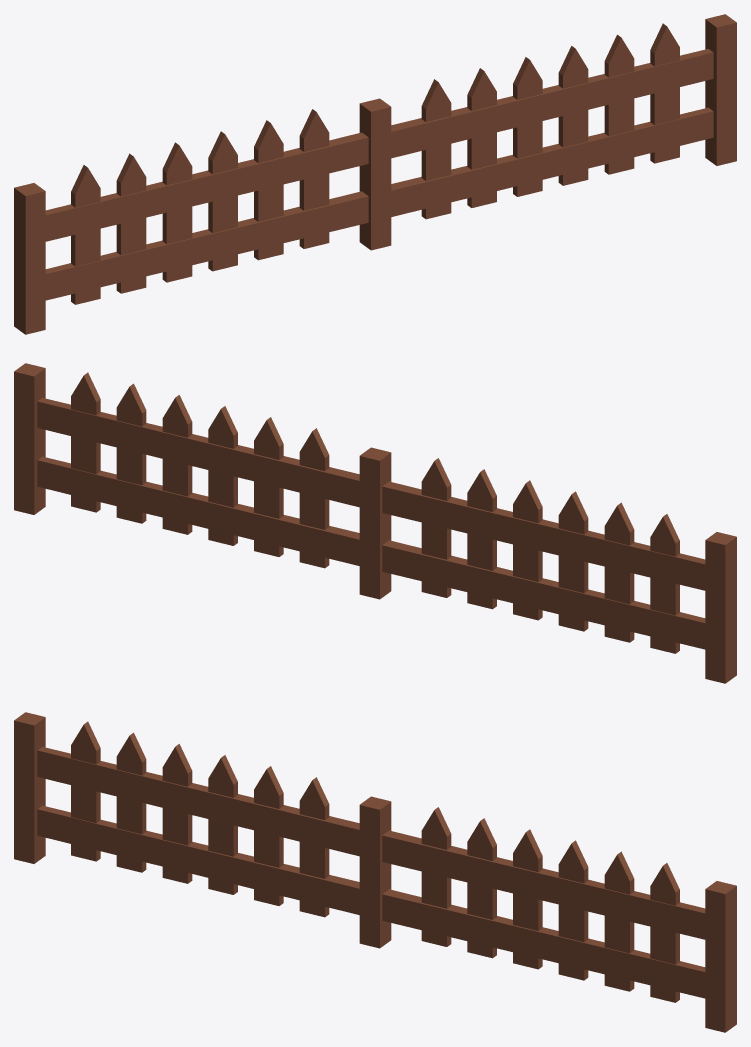
Rendered from Fence2.glb.
The picture shows the model from 3 angles, top to bottom: view 1: azimuth 30°, elevation 25°; view 2: azimuth 150°, elevation 25°; view 3: azimuth 330°, elevation 25°; orthographic projection.
Visible parts, largest first — view 1: Fence2_Cube.024; view 2: Fence2_Cube.024; view 3: Fence2_Cube.024.
Part boxes in pixels (left/top/right/bottom): Fence2_Cube.024: left=14, top=14, right=736, bottom=334; Fence2_Cube.024: left=14, top=363, right=736, bottom=683; Fence2_Cube.024: left=14, top=712, right=736, bottom=1032.
Bounding box in the file's own units: 5.89 × 1.17 × 0.1655.
